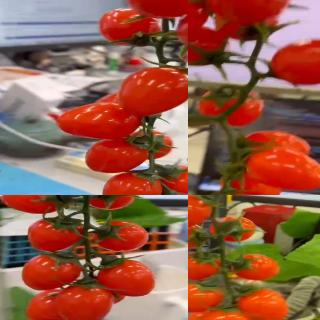tomato: (56, 100, 143, 144), (119, 66, 188, 117), (245, 149, 320, 194), (196, 84, 265, 127), (268, 39, 320, 88), (98, 10, 164, 48), (20, 254, 83, 291), (95, 259, 156, 297), (86, 138, 150, 174), (204, 0, 292, 26), (238, 130, 310, 160), (54, 285, 112, 320), (212, 8, 275, 40), (27, 219, 83, 254), (92, 221, 148, 253), (236, 287, 290, 320), (27, 288, 81, 320), (220, 169, 285, 195), (188, 27, 228, 67), (228, 253, 282, 280), (2, 195, 71, 216), (102, 171, 162, 195), (209, 215, 260, 243), (123, 0, 188, 21), (137, 128, 176, 159), (188, 281, 224, 313), (188, 250, 222, 282), (188, 195, 219, 229), (86, 195, 136, 211), (161, 166, 188, 195), (188, 222, 211, 251), (204, 313, 250, 320), (188, 310, 215, 320)
